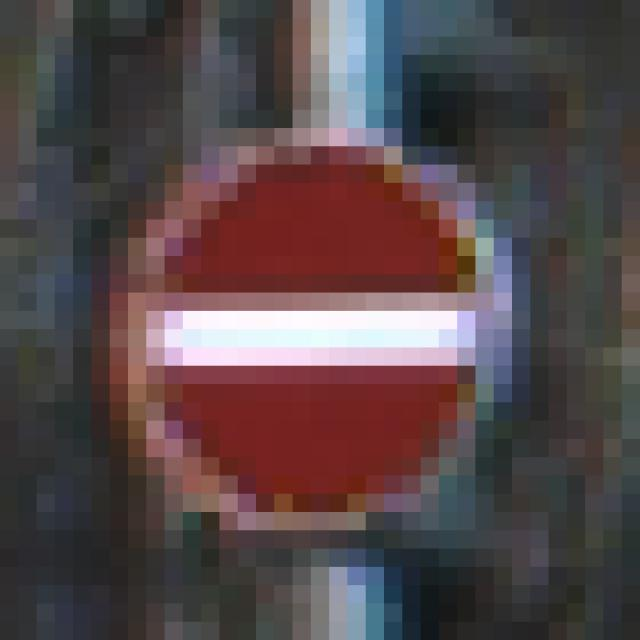No Entry: (111, 93, 550, 550)
